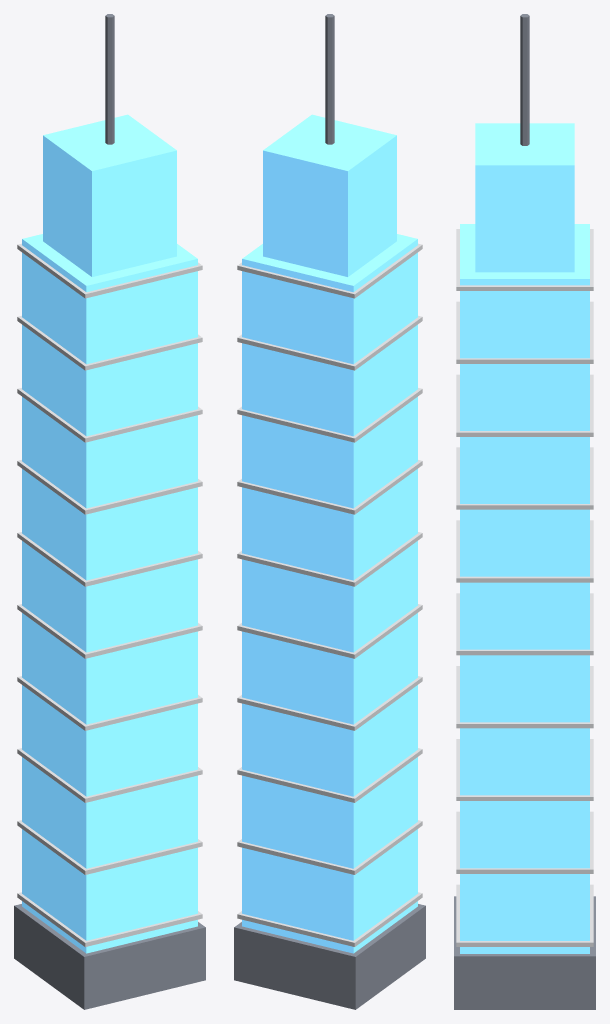
File: residential_5.glb
3 renders of one model, left to right at view 1: azimuth 30°, elevation 25°; view 2: azimuth 150°, elevation 25°; view 3: azimuth 270°, elevation 25°, orthographic.
Parts seen in each view (by area): view 1: residential_5; view 2: residential_5; view 3: residential_5.
Boxes of the visible parts, x1,y1,x2,y2 form: residential_5: (14,14,205,1009); residential_5: (234,14,425,1009); residential_5: (454,14,595,1009).
Size of the model in its own units: 0.6 by 4.5 by 0.6.
